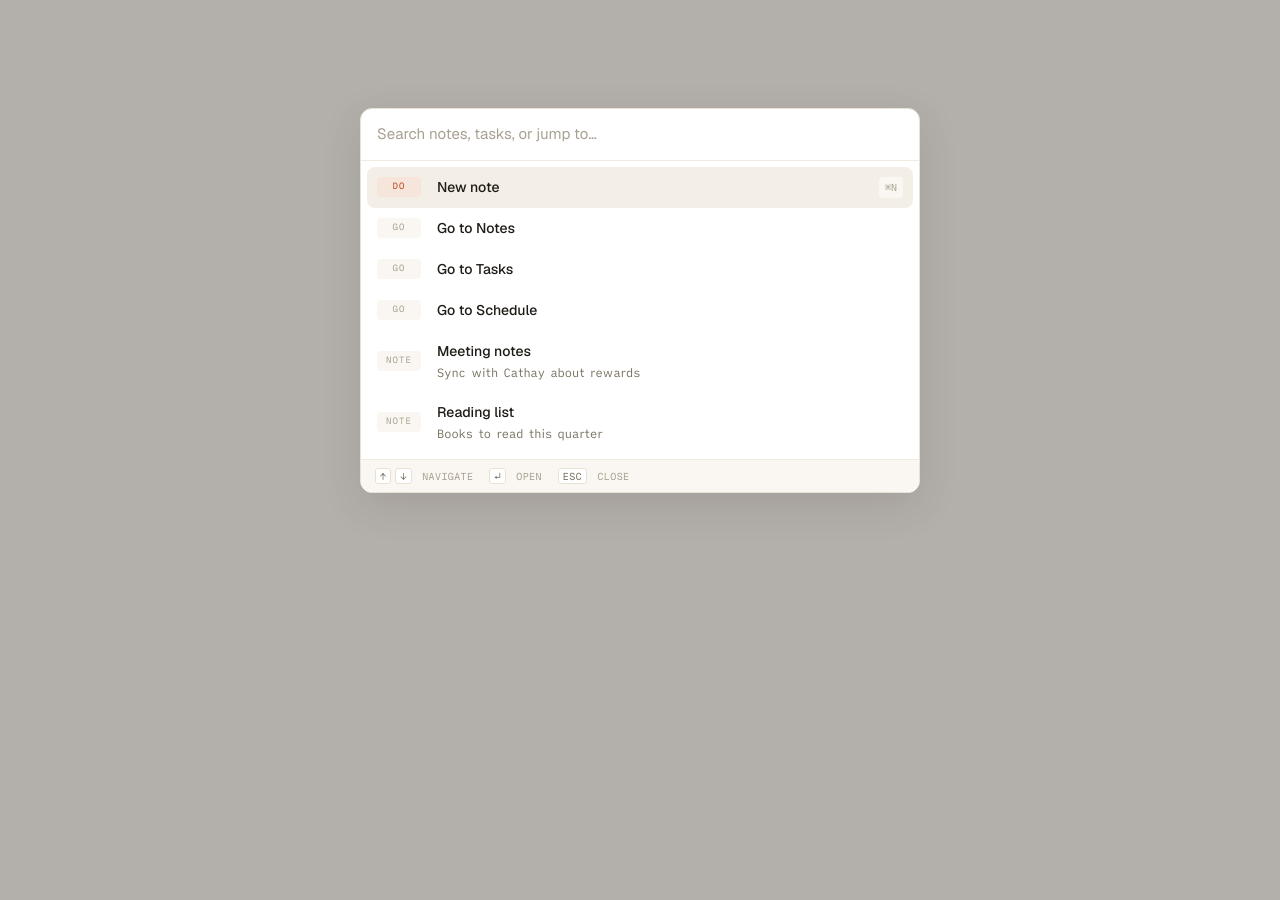
it: CommandPalette › filters notes by content match
Type "cathay" into the field with placeholder "Search notes, tasks, or jump to…" at (640, 135), box [361,109,919,160]
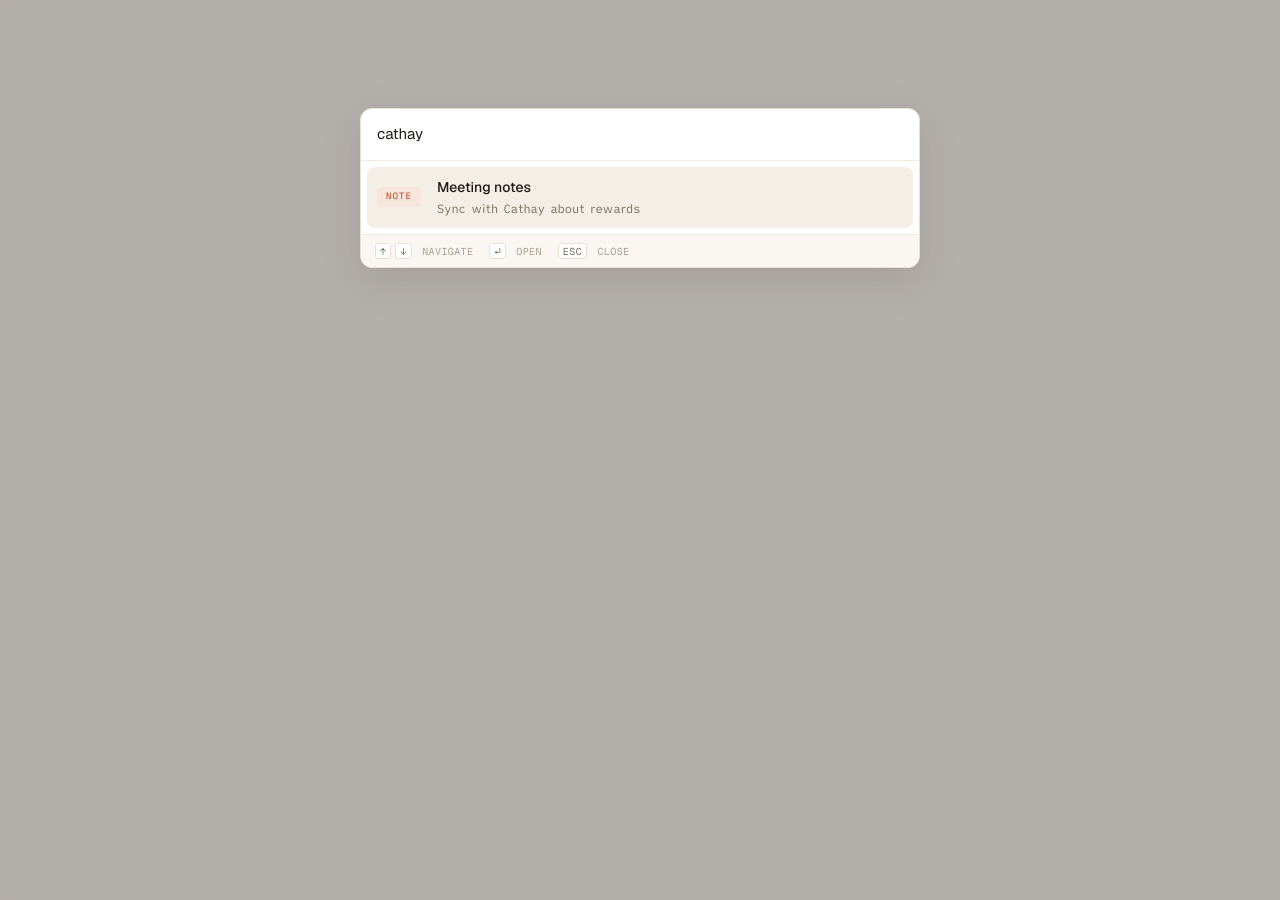
Check: the text "Meeting notes" is shown, box [437,178,531,196]
Check: the option "Reading list" is gone
